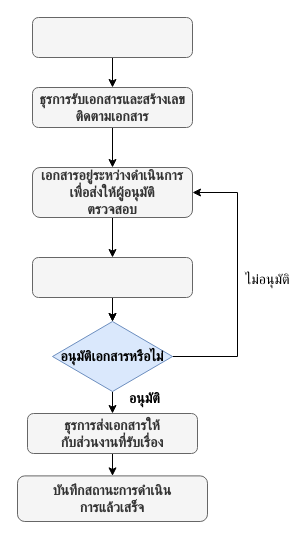
The diagram is 307 pixels wide and 539 high, and some of its shapes have lost their labels. The shapes that lost their labels are listed below. From the top down, each one's box as (x1, y1, x2, y2) in pixels, then its label:
(32, 16, 192, 58): เจ้าของเรื่องยื่นเอกสาร ให้กับธุรการ
(32, 256, 192, 298): ผู้อนุมัติตรวจสอบ เรื่องที่ร้องขอ
